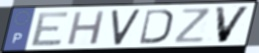D: (138, 8, 174, 45)
E: (29, 10, 72, 48)
H: (65, 9, 108, 47)
V: (213, 5, 253, 44), (110, 7, 143, 46)
Z: (173, 7, 212, 45)
